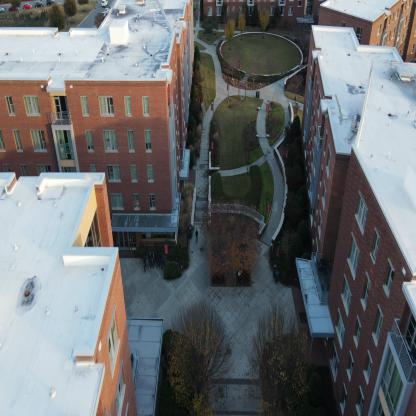Wolf Ridge: (0, 0, 198, 415), (283, 0, 409, 415)
